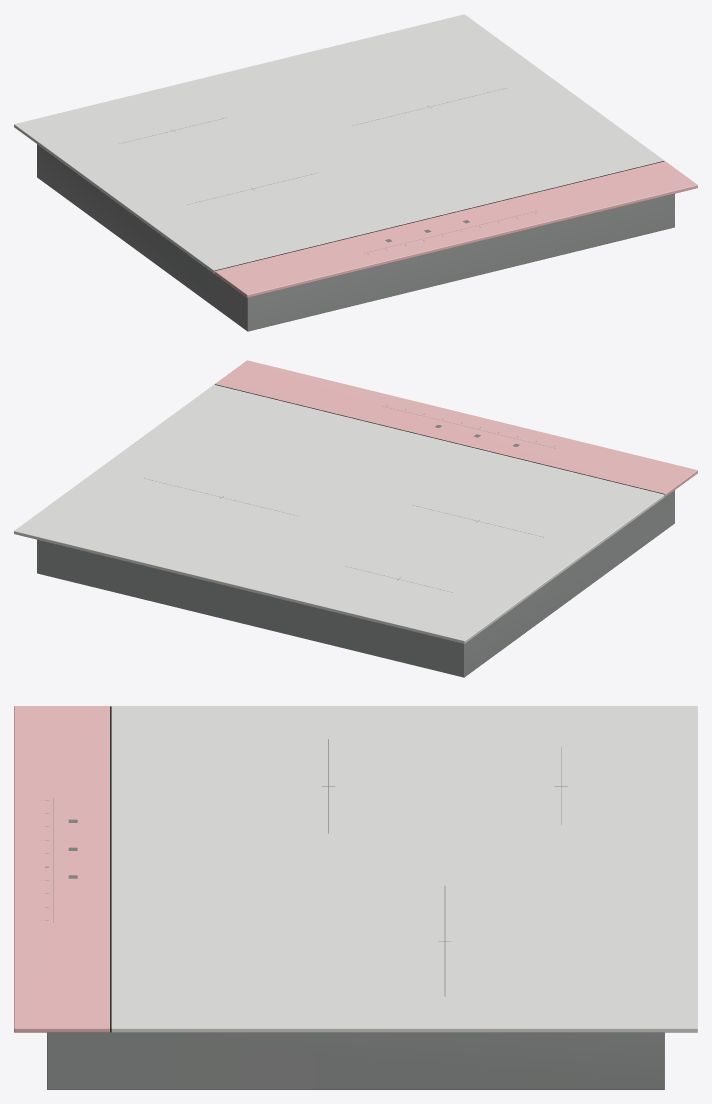
Rendered from BEI3ANPLE.glb.
The picture shows the model from 3 angles, top to bottom: view 1: azimuth 30°, elevation 25°; view 2: azimuth 150°, elevation 25°; view 3: azimuth 270°, elevation 25°; orthographic projection. The views are drawn at different scales.
Parts seen in each view (by area): view 1: CeramicGlass, LowerCase, ControlGlass, ControlSeam; view 2: CeramicGlass, LowerCase, ControlGlass, ControlSeam; view 3: CeramicGlass, LowerCase, ControlGlass, SliderTick_0, ControlSeam.
Boxes of the visible parts, x1,y1,x2,y2 form: CeramicGlass: (14,14,664,273); LowerCase: (37,144,674,331); ControlGlass: (214,161,697,297); ControlSeam: (214,161,664,270); CeramicGlass: (14,384,664,643); LowerCase: (37,490,674,677); ControlGlass: (214,360,697,496); ControlSeam: (215,384,664,494); CeramicGlass: (111,706,697,1032); LowerCase: (47,1032,664,1089); ControlGlass: (14,706,109,1032); SliderTick_0: (45,739,567,996); ControlSeam: (110,706,111,1032).
Bounding box in the file's own units: 0.58 × 0.059 × 0.52.
